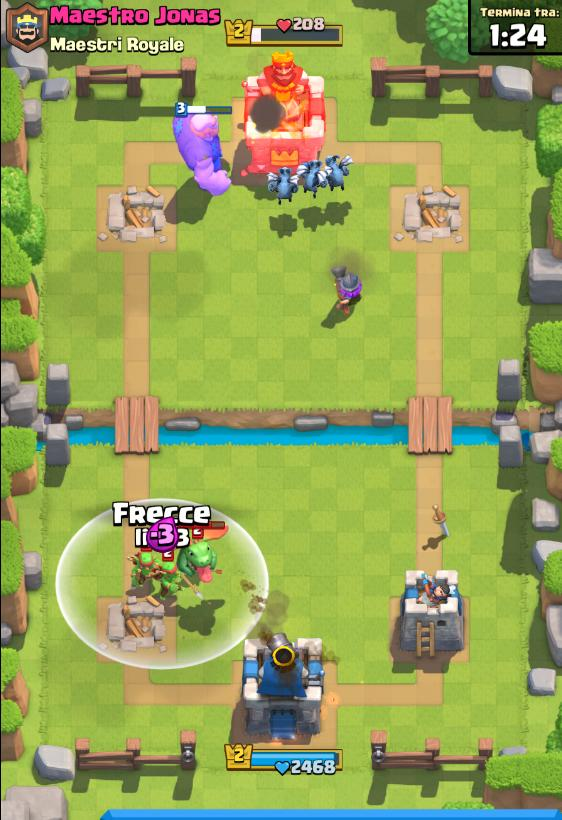ally_giant: (168, 99, 241, 200)
ally_minion: (319, 150, 355, 192), (298, 156, 327, 199), (269, 165, 300, 205)
ally_musketeer: (323, 258, 370, 319)
enemy_baby_dragon: (172, 520, 223, 586)
enemy_spear_goblin: (132, 548, 162, 596), (162, 549, 184, 609)
